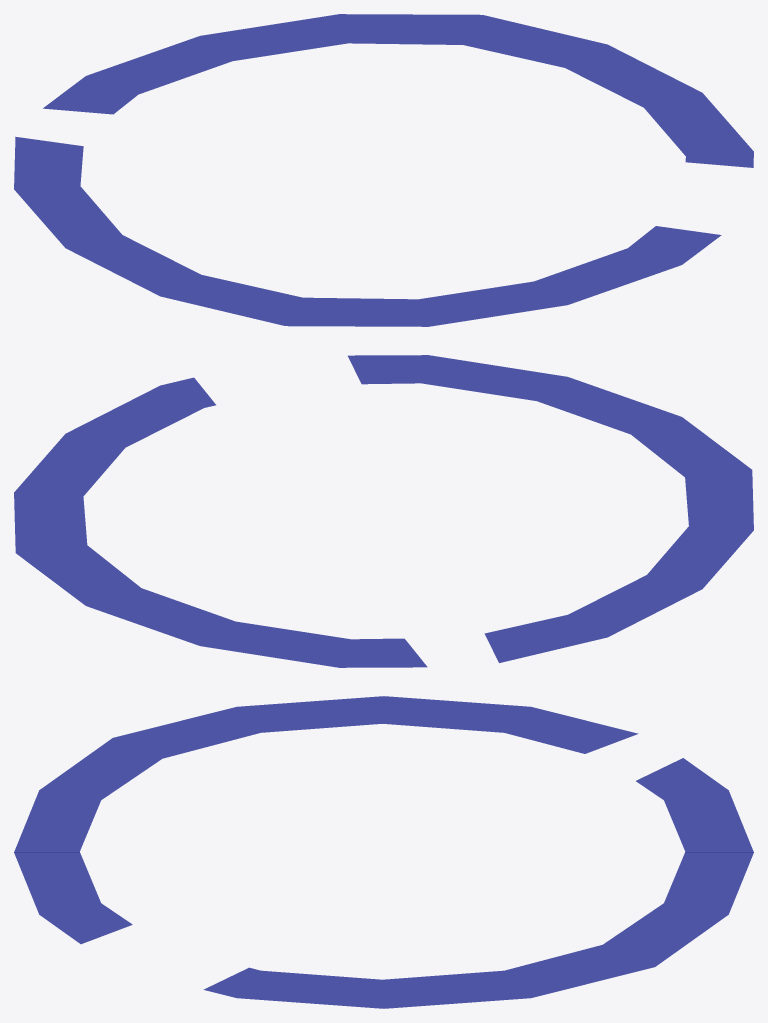
File: player_indicator.gltf
3 views of the same model, one above another, from view 1: azimuth 30°, elevation 25°; view 2: azimuth 150°, elevation 25°; view 3: azimuth 270°, elevation 25° (orthographic).
Visible parts, largest first — view 1: player indicator; view 2: player indicator; view 3: player indicator.
Boxes of the visible parts, left/top/right/bottom form: player indicator: left=14, top=14, right=753, bottom=326; player indicator: left=14, top=355, right=753, bottom=667; player indicator: left=14, top=696, right=753, bottom=1008.
Size of the model in its own units: 42.66 by 0 by 42.66.
Materials: 1 (1 with a texture image).
